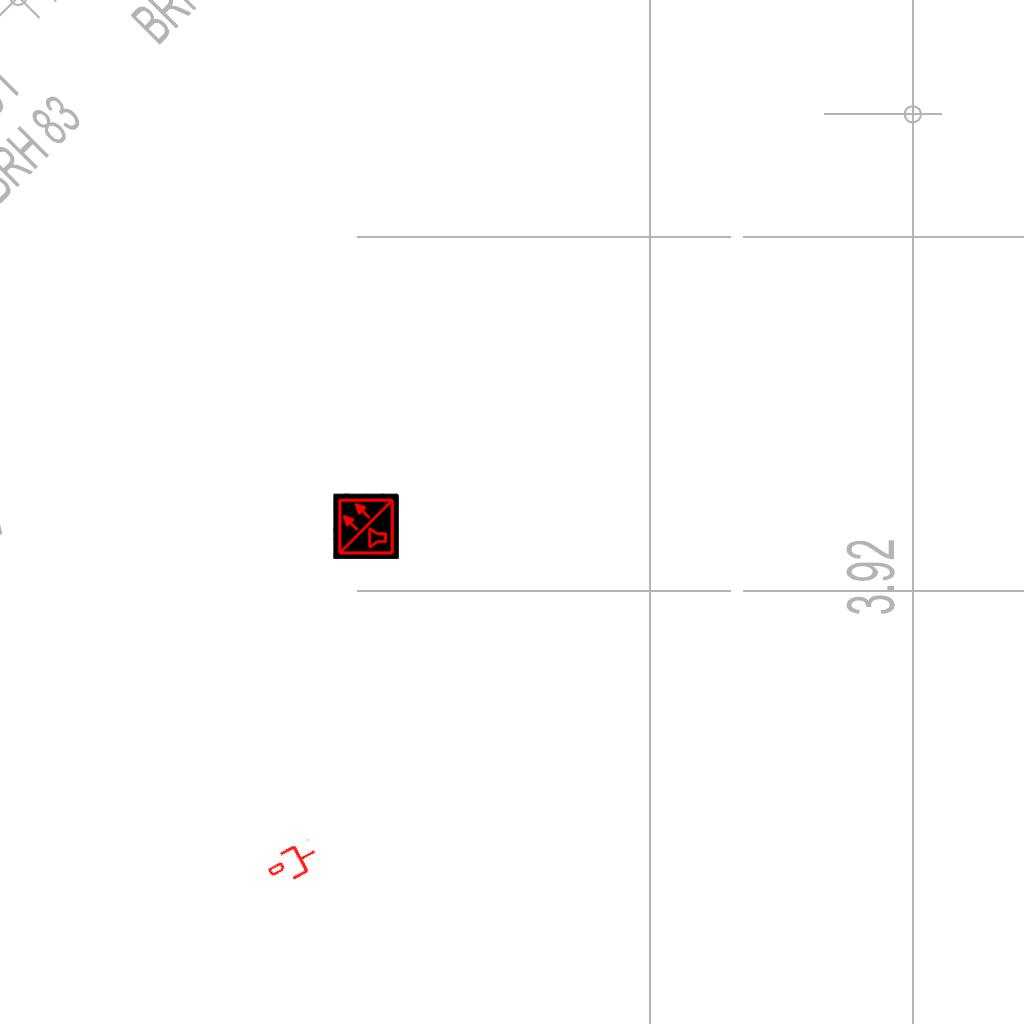Datenanschluss_einfach: (262, 836, 324, 890)
OKW_Multisensormelder_(Kombination_optischer_Rauch-Kahlenmonoxid_Waerme-Melder): (333, 493, 399, 559)
